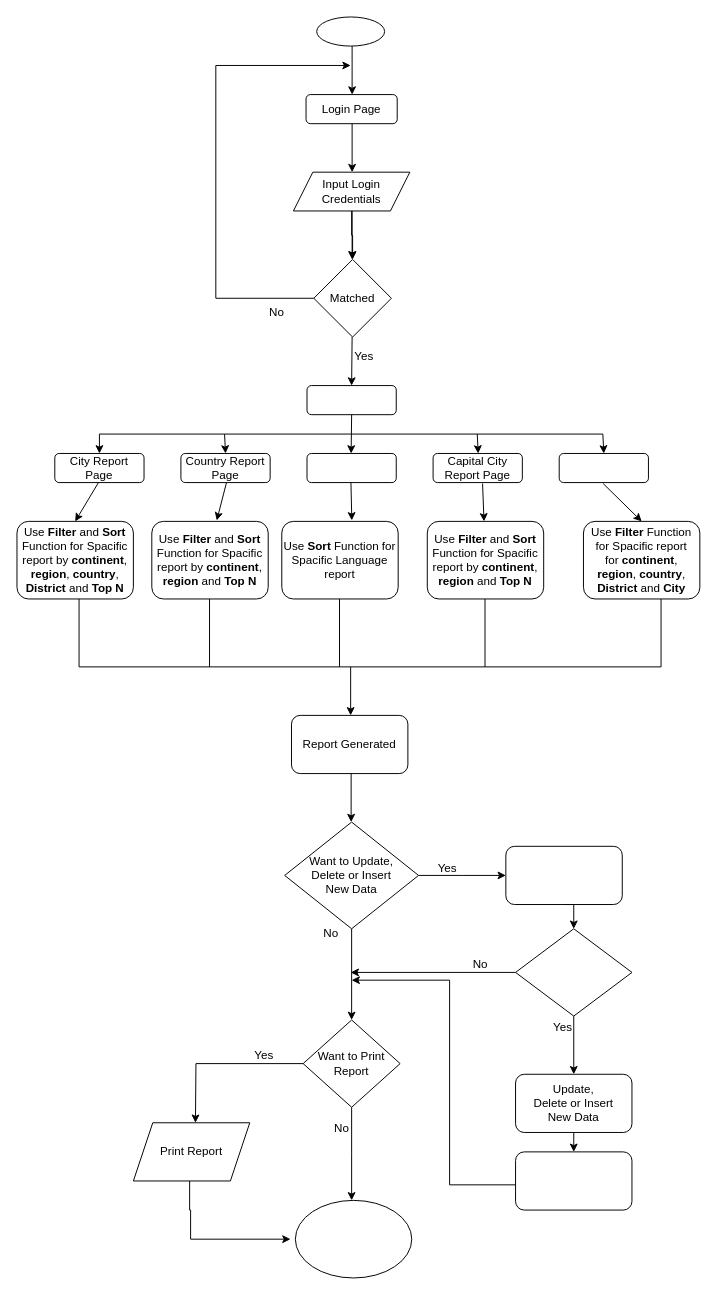
This 717x1295 diagram has some shape labels left out. Each missing label, with the centre of its shape:
Authorized person: (573,972)
Click on Edit data: (563,875)
END: (353,1238)
Home Page: (351,400)
Language Report Page: (351,468)
New Report Generated: (573,1180)
Population Report Page: (603,468)
Start: (350,31)
